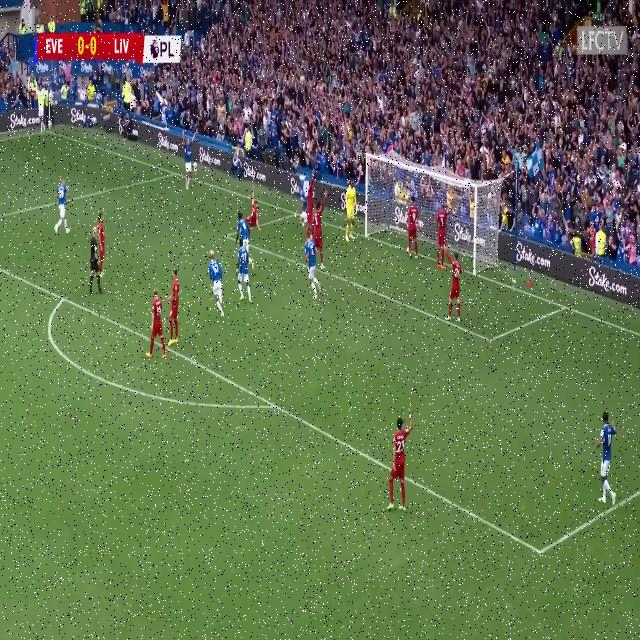Ball: (407, 246, 410, 254)
GoalKeeper: (344, 177, 358, 244)
Referee: (89, 224, 105, 296)
TEAM 1: (386, 406, 413, 514), (442, 245, 467, 327), (311, 189, 331, 272), (146, 288, 166, 358), (165, 268, 181, 350), (96, 211, 109, 280), (407, 194, 420, 262), (436, 199, 448, 271), (245, 184, 261, 232), (306, 168, 318, 229)
TEAM 2: (594, 411, 619, 506), (208, 249, 228, 318), (304, 232, 324, 299), (236, 239, 253, 305), (182, 130, 200, 192), (54, 176, 71, 235), (236, 212, 250, 252), (299, 191, 308, 228)
